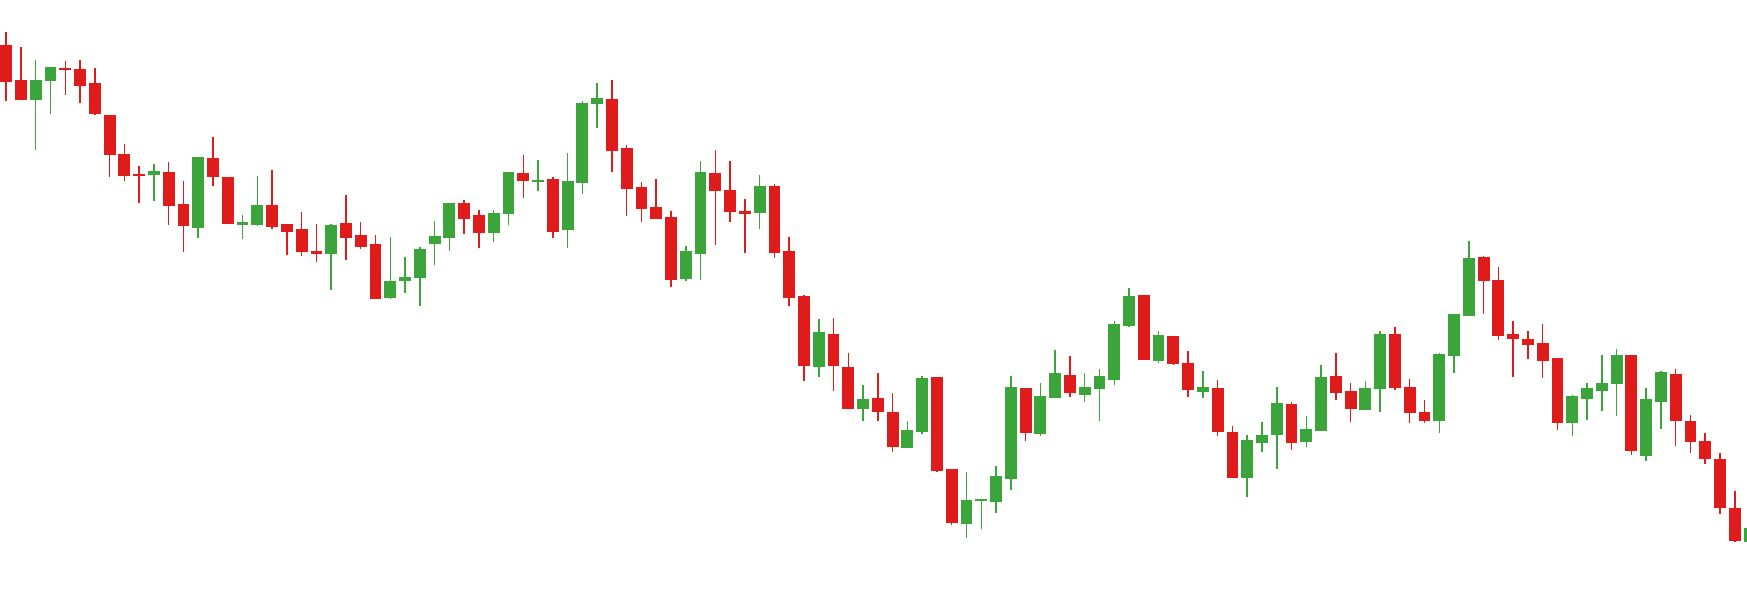sell: (1120, 243, 1507, 377), (207, 83, 619, 207), (650, 149, 723, 244)
